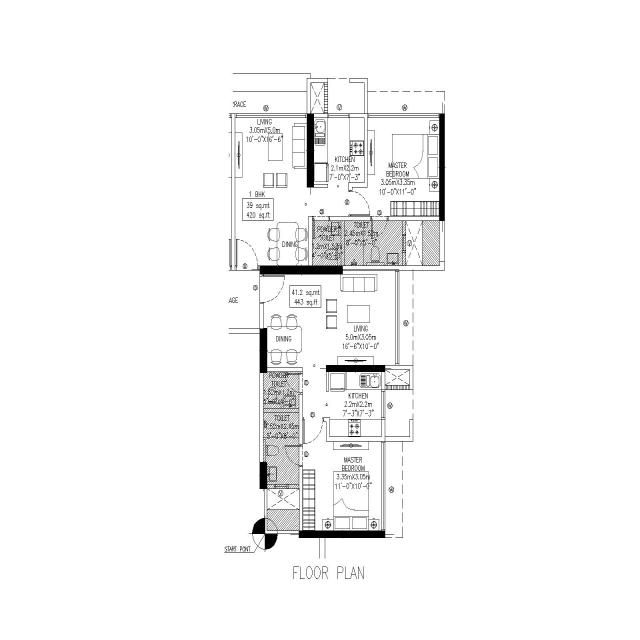Column: (298, 527, 386, 540), (258, 264, 344, 275), (438, 112, 446, 222), (305, 112, 315, 190), (325, 363, 386, 372), (258, 327, 269, 375), (259, 460, 268, 490)
Door: (258, 274, 265, 304), (347, 187, 353, 217), (233, 265, 260, 271), (311, 215, 331, 223), (298, 442, 304, 468), (298, 370, 304, 394), (301, 416, 325, 422), (370, 216, 390, 222)
Opening: (306, 184, 312, 219), (325, 389, 331, 418), (301, 366, 325, 372), (326, 183, 349, 189)
Ventilator: (326, 113, 364, 119), (401, 232, 407, 254), (274, 483, 288, 490)
Window: (394, 268, 400, 366), (368, 112, 440, 120), (380, 442, 386, 532), (234, 113, 308, 119), (381, 389, 386, 419)
